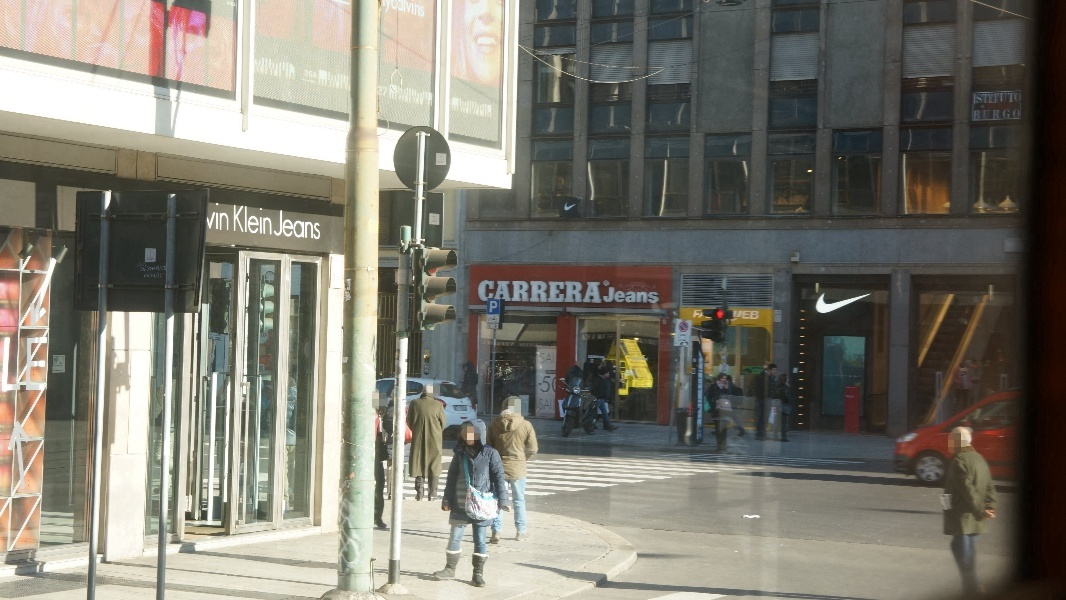text: (1, 331, 16, 394), (17, 331, 32, 394), (33, 331, 48, 394), (241, 201, 256, 244), (257, 201, 272, 244), (273, 201, 288, 244), (289, 201, 304, 244), (305, 201, 320, 244), (209, 202, 224, 233), (481, 280, 496, 305), (497, 280, 512, 305), (513, 280, 528, 305), (529, 280, 544, 305), (545, 280, 560, 305), (561, 280, 576, 305), (577, 280, 592, 305), (593, 280, 608, 305), (609, 280, 624, 305), (625, 280, 640, 305), (641, 280, 656, 305), (233, 201, 240, 244), (705, 308, 720, 323), (721, 308, 736, 323), (737, 308, 752, 323), (545, 350, 557, 366), (545, 396, 555, 414), (545, 374, 553, 395), (417, 1, 426, 19), (203, 202, 208, 233), (225, 202, 230, 233), (694, 308, 704, 323), (536, 396, 544, 414), (305, 69, 318, 80), (657, 280, 662, 305), (753, 308, 761, 323), (489, 300, 496, 315), (538, 350, 544, 366), (378, 84, 384, 99), (411, 1, 416, 19), (321, 201, 323, 244), (385, 84, 390, 99), (49, 331, 50, 394), (478, 280, 480, 305), (542, 374, 544, 395), (497, 300, 499, 315)
